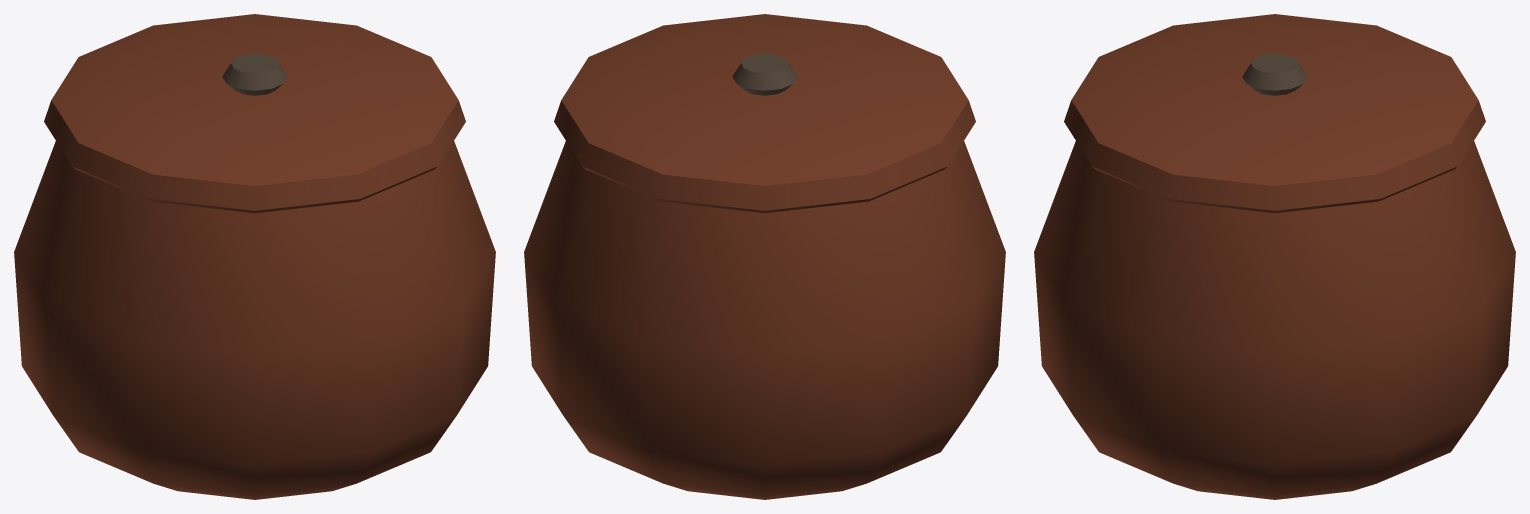
Rendered from Jar_2.fbx.
The picture shows the model from 3 angles, left to right: view 1: azimuth 30°, elevation 25°; view 2: azimuth 150°, elevation 25°; view 3: azimuth 270°, elevation 25°; orthographic projection.
Parts seen in each view (by area): view 1: Jar_2; view 2: Jar_2; view 3: Jar_2.
Boxes of the visible parts, x1,y1,x2,y2 form: Jar_2: [14, 14, 495, 499]; Jar_2: [524, 14, 1005, 499]; Jar_2: [1034, 14, 1515, 499].
Bounding box in the file's own units: 39.87 × 33.9 × 39.87.
